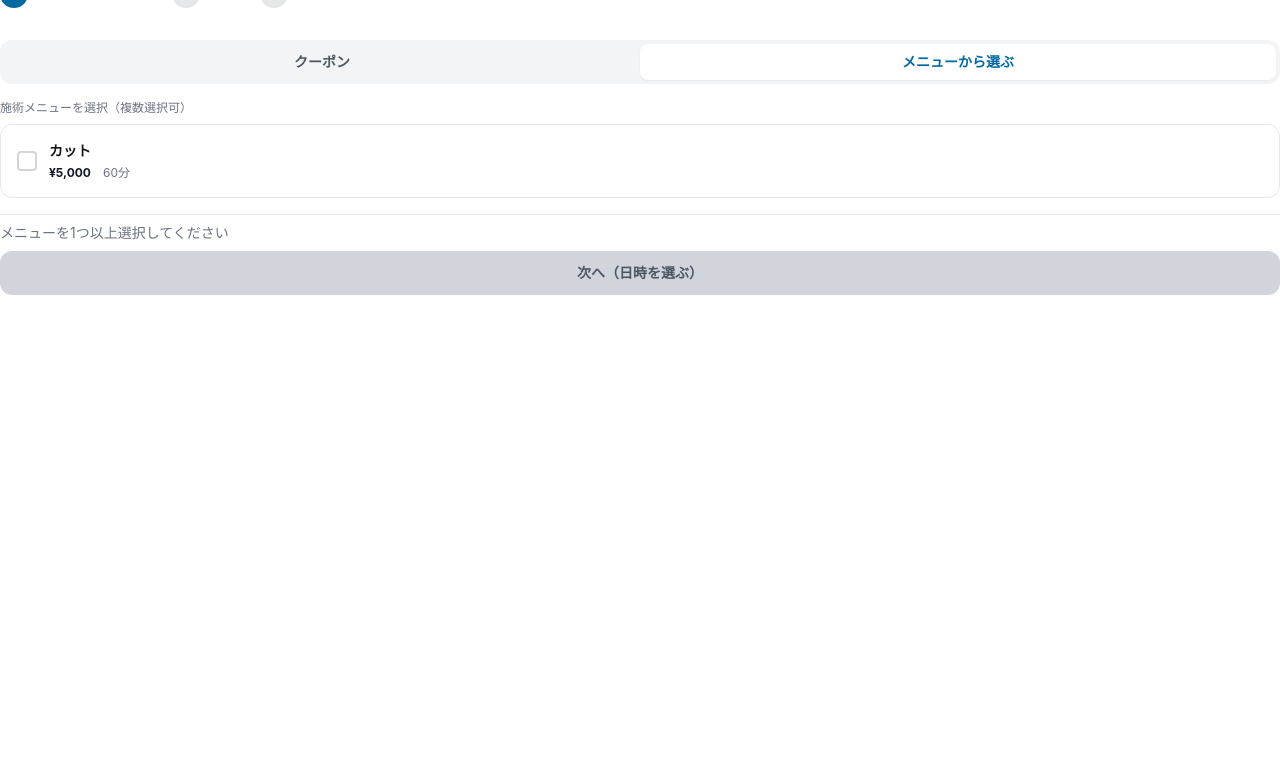
defect4: キャンセルポリシー表示（確認ステップ） › policy_text が null でも数値ベースの説明文だけは表示される（補足文は非表示）
Step 1. Click the text "カット" → (70, 151), box 49,141 -> 91,161
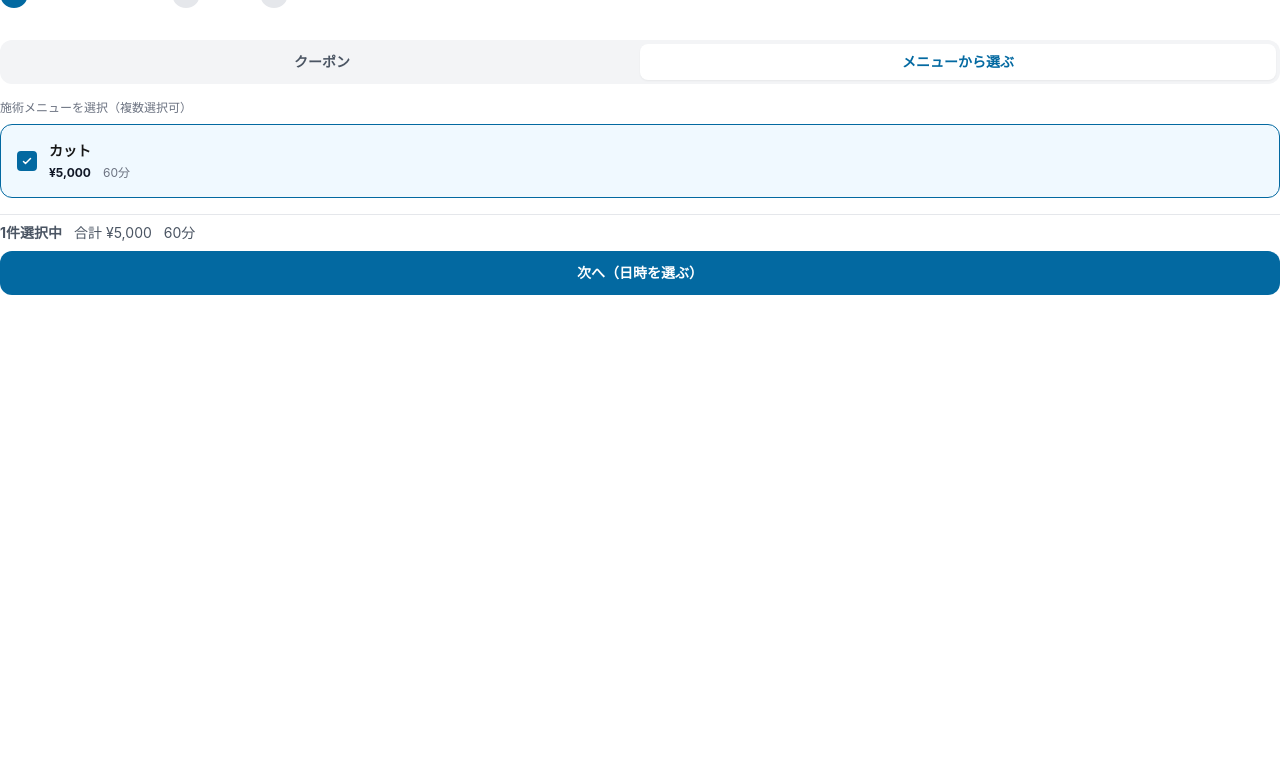
Step 2. Click the button "次へ（日時を選ぶ）" → (640, 273), box 0,251 -> 1279,295
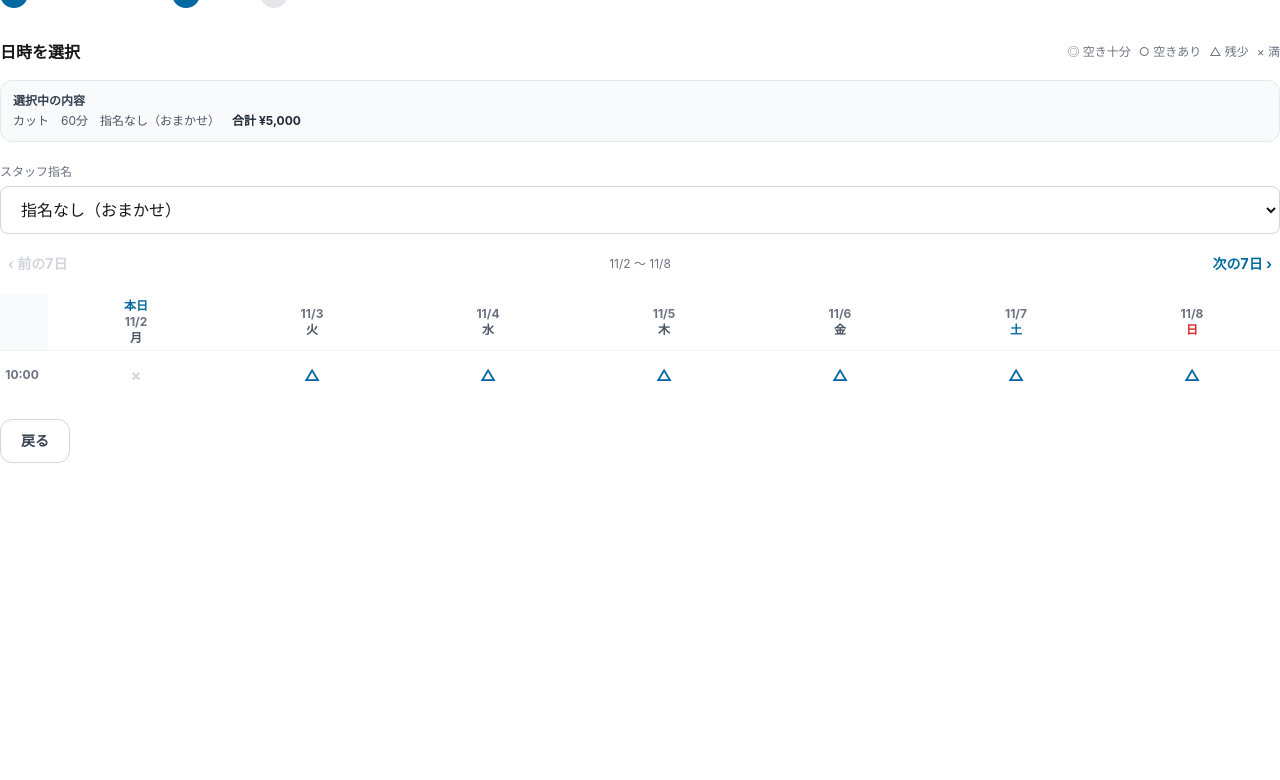
Step 3. Click the 1st button "△" → (312, 375), box 226,353 -> 398,397
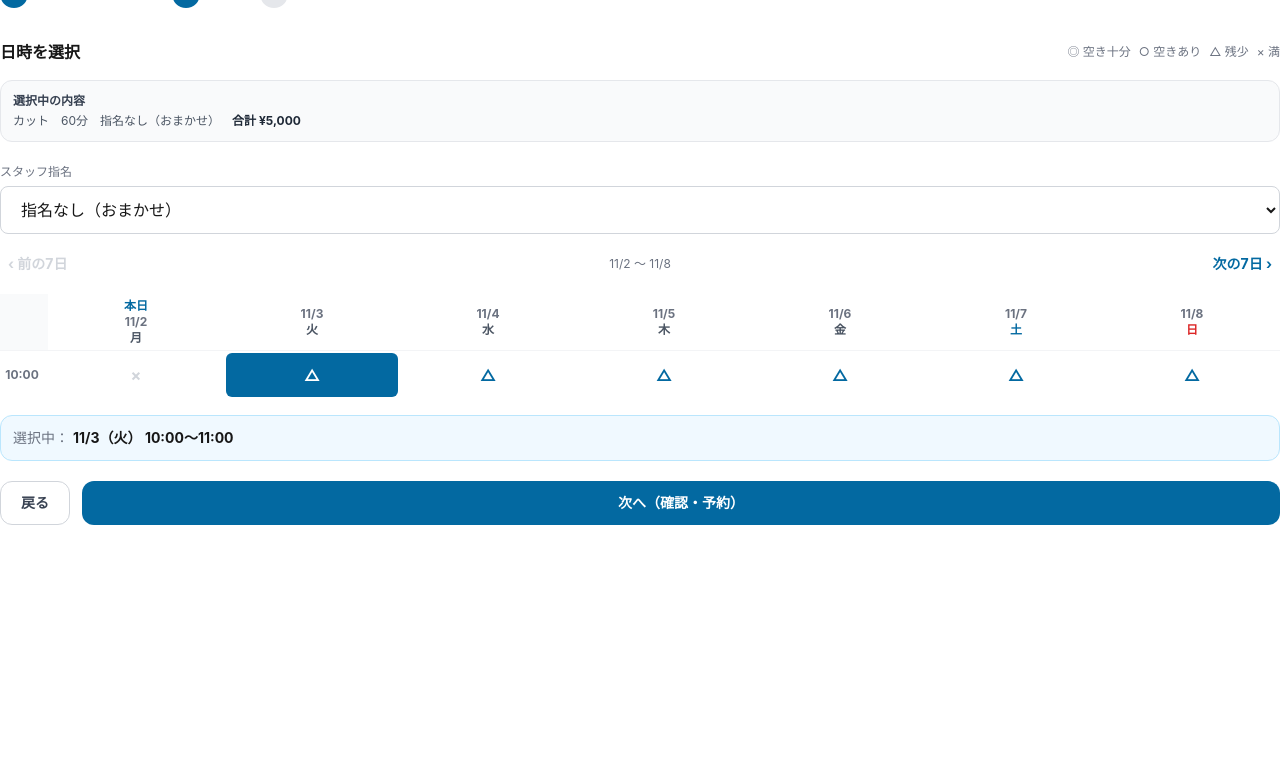
Step 4. Click the button "次へ（確認・予約）" → (681, 503), box 82,481 -> 1279,525
(page scrolled)
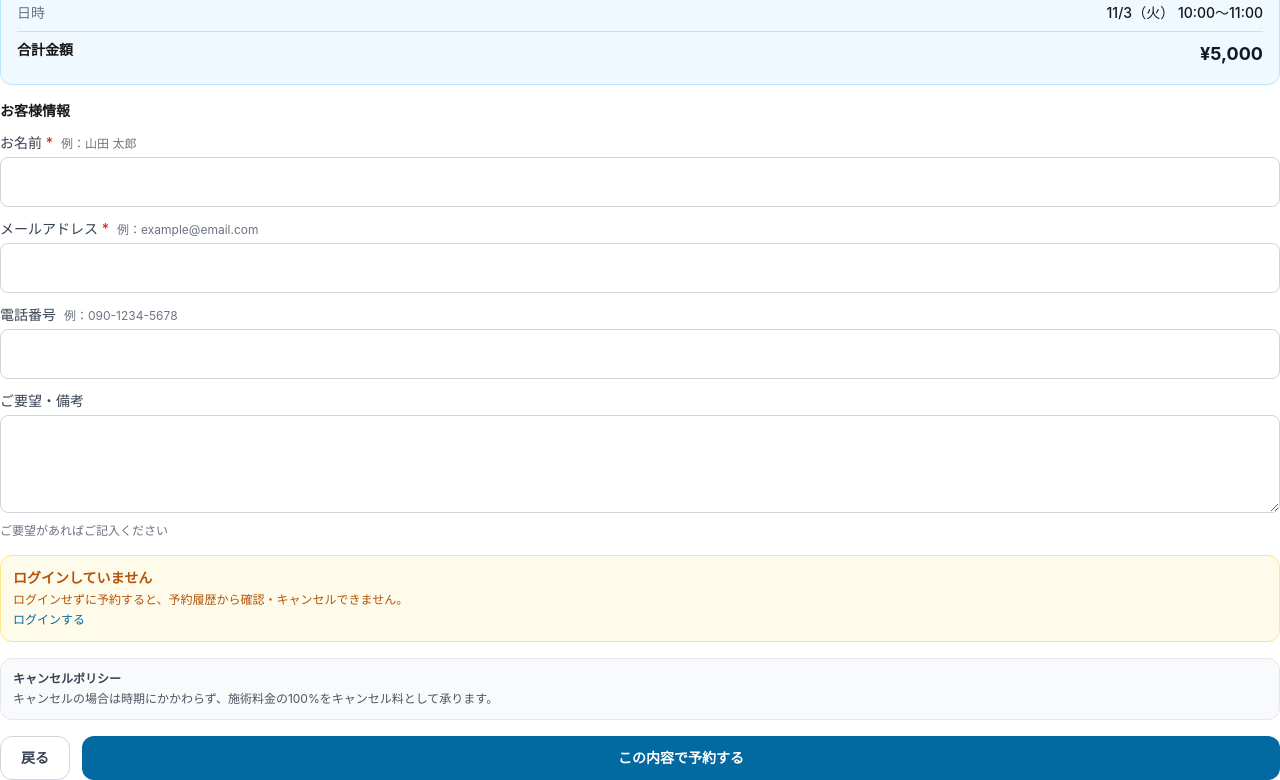
Now the text "キャンセルの場合は時期にかかわらず、施術料金の100%をキャンセル料として承ります。" is shown, box 13,691 -> 498,706
